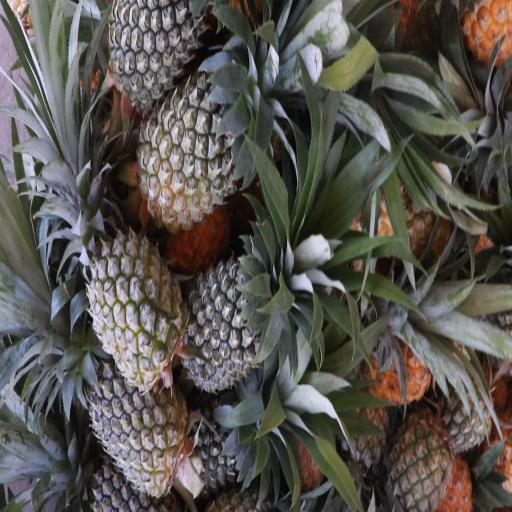------------------------------: (144, 75, 254, 217), (91, 230, 179, 382), (386, 422, 449, 510)
Pineapple - v8 v1: (458, 0, 512, 68)
